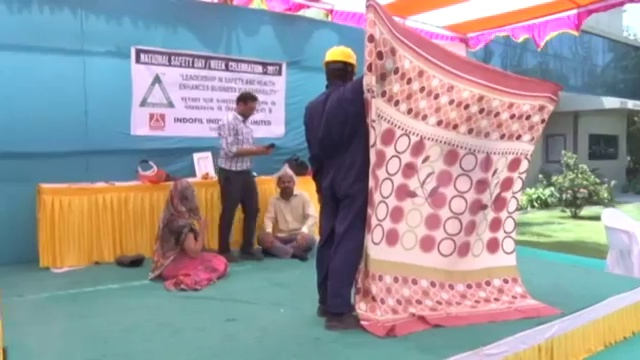helmet: (324, 44, 357, 65)
helmet_off: (234, 91, 259, 119), (277, 168, 296, 196), (171, 181, 196, 202)
helmet_on: (322, 42, 357, 86)
person: (303, 43, 368, 330), (216, 90, 264, 256), (158, 180, 227, 288), (260, 165, 316, 262)
